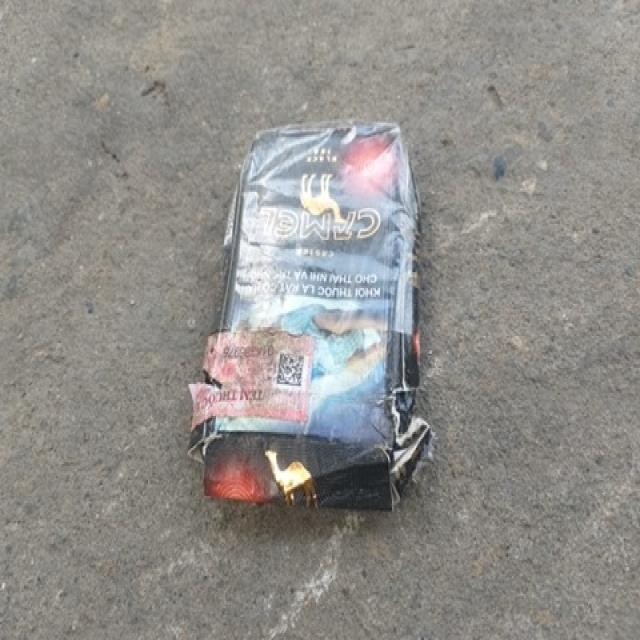PaperCardboard: (192, 128, 430, 514)
